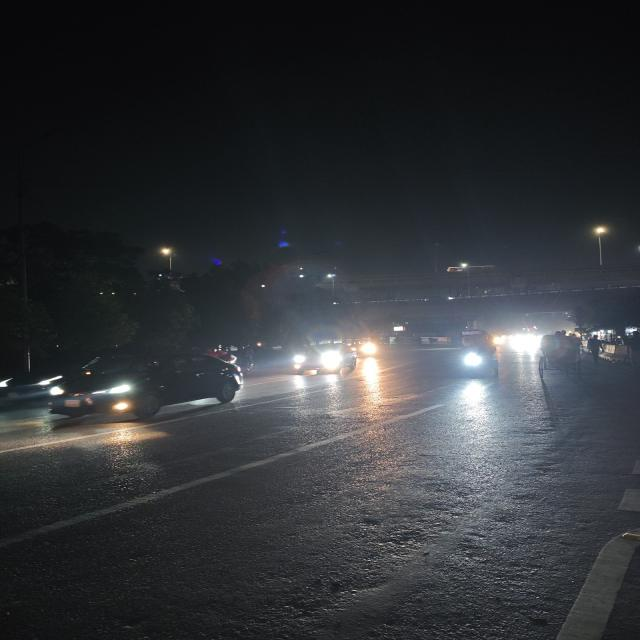car: (42, 348, 245, 428), (292, 339, 359, 379)
pedestrian: (584, 331, 604, 363), (579, 332, 596, 362)
rickshaw: (530, 333, 584, 383)
